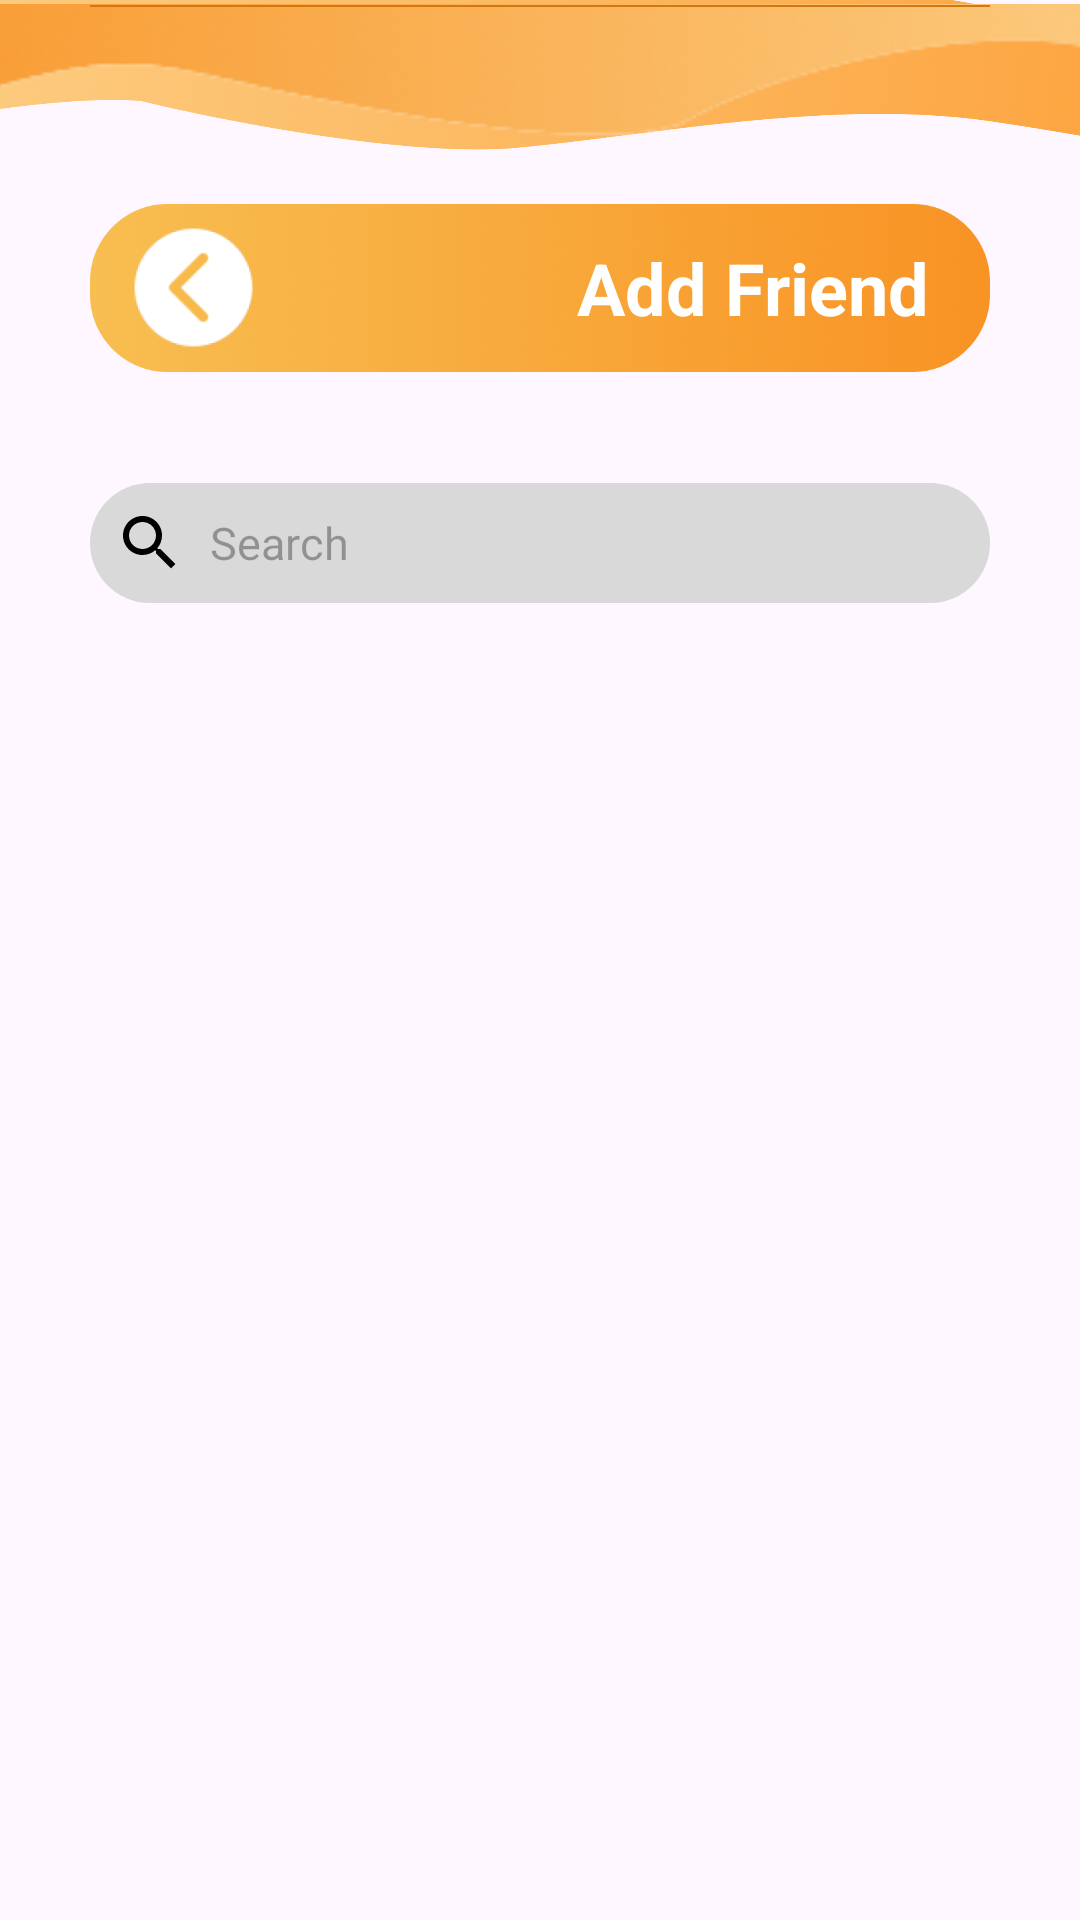

Locate icon controls on the screen. Image size 1080×1920, boxes as bbox=[x1, y1, x2, y2].
backto: bbox=[134, 228, 253, 347]
